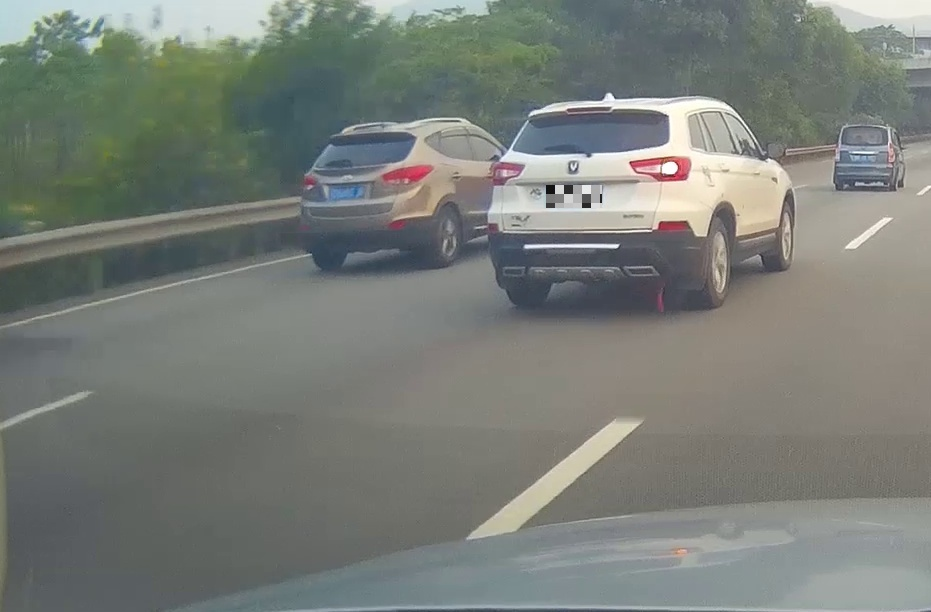L_light: (492, 160, 526, 185), (302, 173, 318, 192), (888, 143, 895, 162), (835, 144, 841, 162), (858, 141, 869, 144)
R_light: (630, 156, 691, 182), (382, 163, 433, 184)
T_light: (566, 106, 611, 114), (357, 134, 382, 139)
day-no: (298, 122, 438, 269), (833, 123, 897, 191)
day-right: (487, 99, 698, 306)
plate_1: (546, 185, 602, 208)
